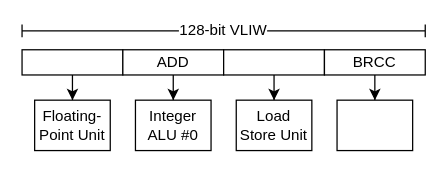
Some shapes in this 447 by 173 pixel diagram are drawn without their labels. The shapes that lost their labels are listed below. From the top down, each one's centre as x and y in pixels, then its label:
(x=72, y=62): FADD
(x=273, y=62): LD
(x=374, y=125): Branch Unit
